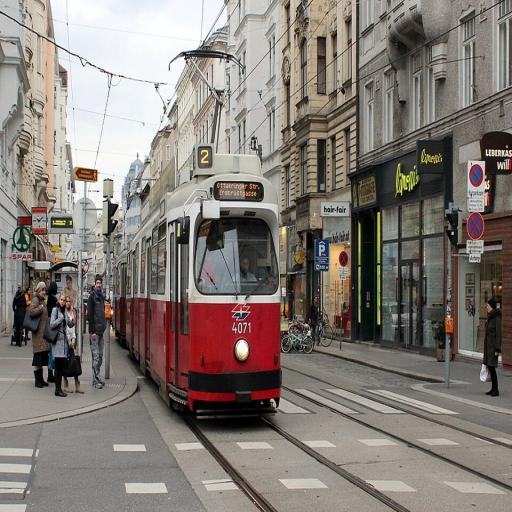E2-Tram: (110, 148, 285, 427)
